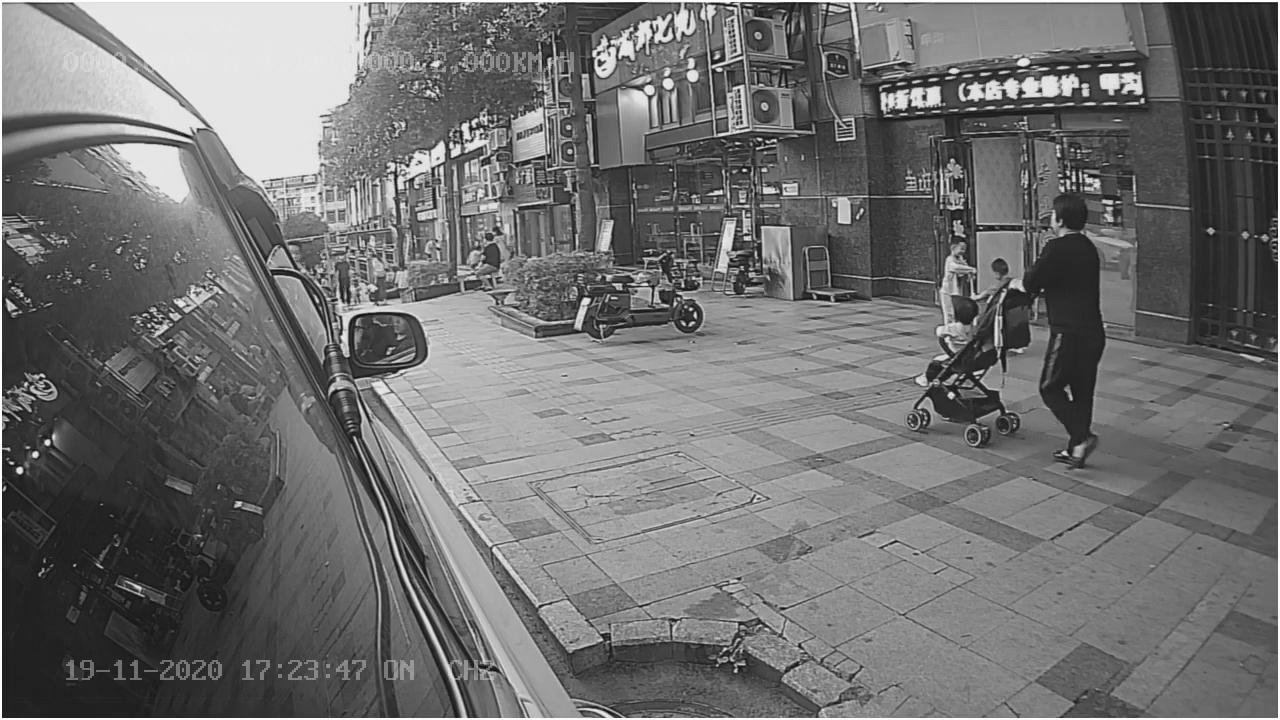person: (1005, 183, 1109, 475)
